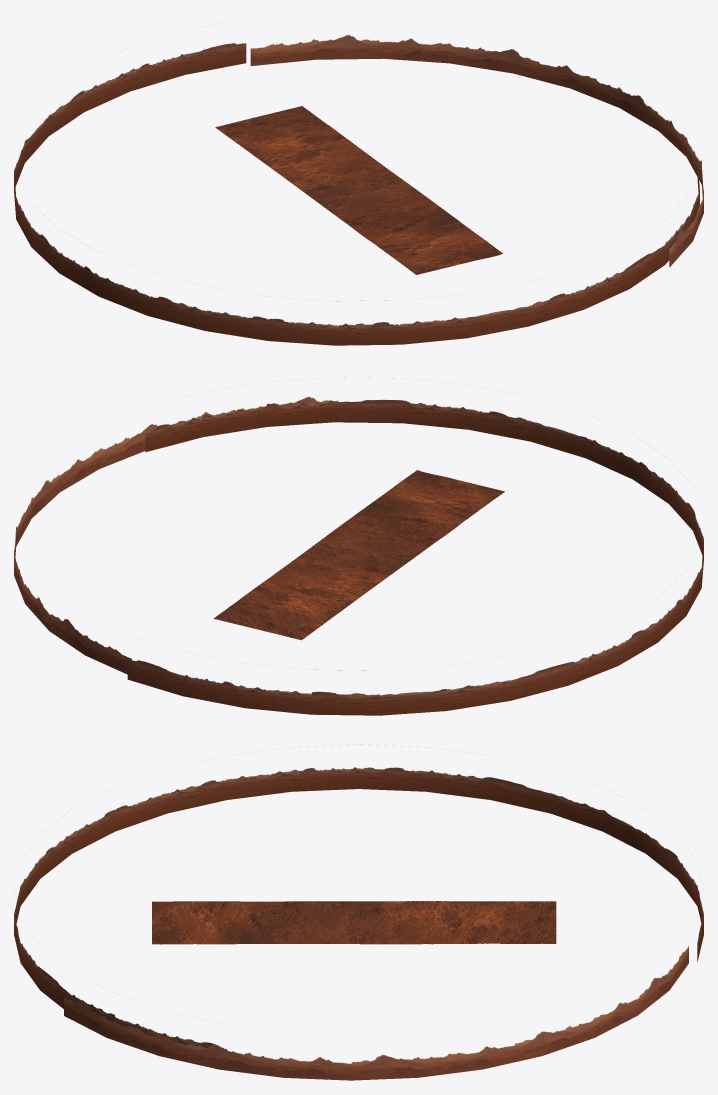
The model's file is ELYSIUM_IV_SOL_02_Terrain.glb.
The picture shows the model from 3 angles, top to bottom: view 1: azimuth 30°, elevation 25°; view 2: azimuth 150°, elevation 25°; view 3: azimuth 270°, elevation 25°; orthographic projection.
Parts seen in each view (by area): view 1: Panorama.02, SOL_02_Mars_Terrain, Panorama.01; view 2: Panorama.02, SOL_02_Mars_Terrain, Panorama.01; view 3: SOL_02_Mars_Terrain, Panorama.02, Panorama.01.
Boxes of the visible parts, <box> form: Panorama.02: <box>14,43,699,345</box>; SOL_02_Mars_Terrain: <box>215,106,502,274</box>; Panorama.01: <box>250,35,703,267</box>; Panorama.02: <box>127,400,703,715</box>; SOL_02_Mars_Terrain: <box>213,470,504,640</box>; Panorama.01: <box>14,396,338,674</box>; SOL_02_Mars_Terrain: <box>152,901,556,944</box>; Panorama.02: <box>14,767,703,1049</box>; Panorama.01: <box>64,946,688,1080</box>.
Size of what is drawn, in the model's own units: 17069 by 1219 by 17070.
13 materials, 9 textured.
